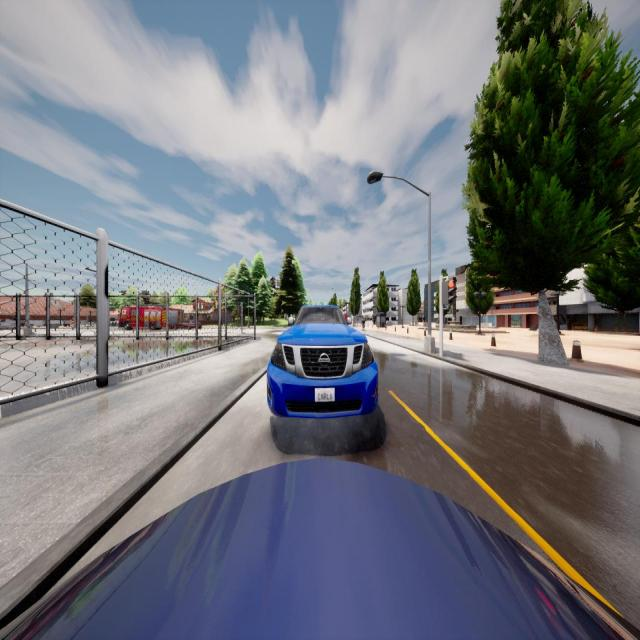Pedestrian: (361, 316, 366, 331)
Vehicle: (0, 462, 640, 640), (266, 306, 378, 418), (120, 306, 183, 328), (181, 319, 201, 329)
traffic_light: (443, 280, 455, 305), (238, 305, 241, 316)
